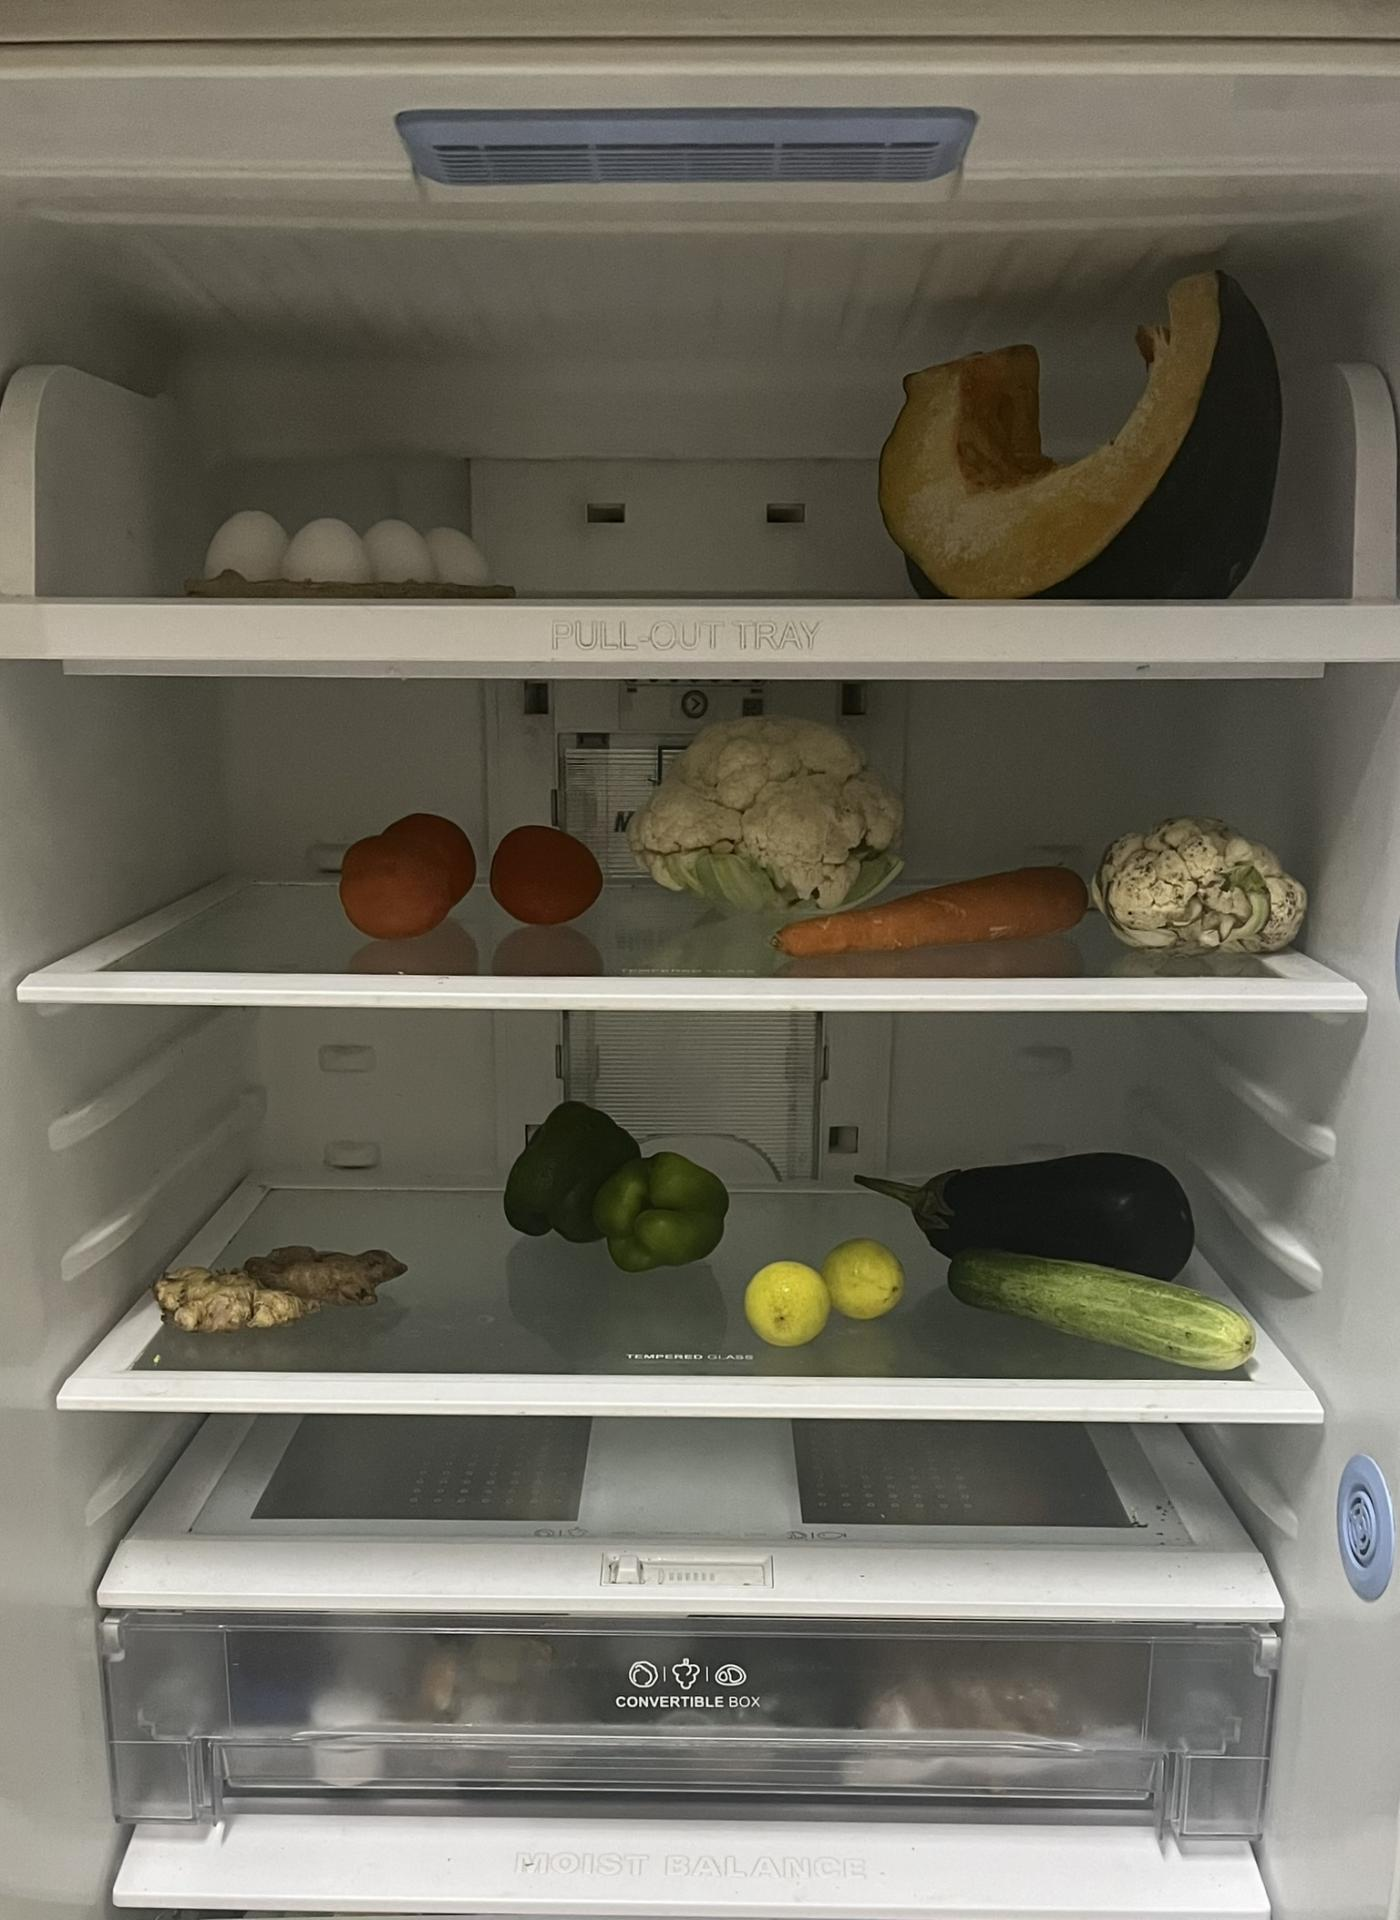brinjal: (851, 1155, 1199, 1263)
capsicum: (507, 1108, 732, 1283)
carrots: (777, 869, 1088, 956)
cauliflower: (634, 716, 899, 891), (1099, 812, 1312, 948)
cucumber: (953, 1255, 1245, 1357)
egg: (206, 507, 492, 586)
ginger: (155, 1234, 401, 1340)
lemon: (748, 1236, 908, 1351)
pumpkin: (875, 258, 1281, 596)
tomato: (343, 812, 486, 942), (483, 815, 599, 929)
